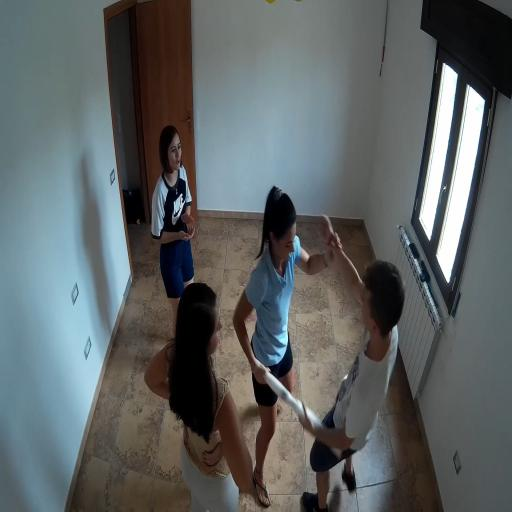violencia: (226, 160, 414, 512)
